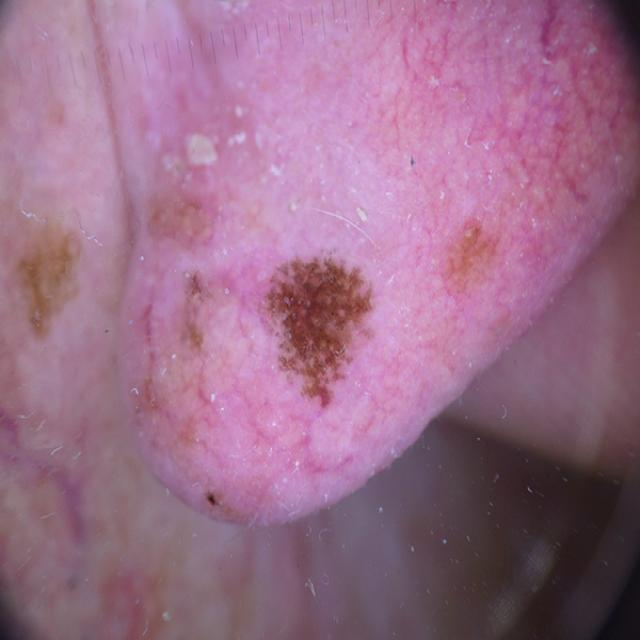Skin-Cancer Pigmented benign keratosis: (22, 31, 640, 640)
